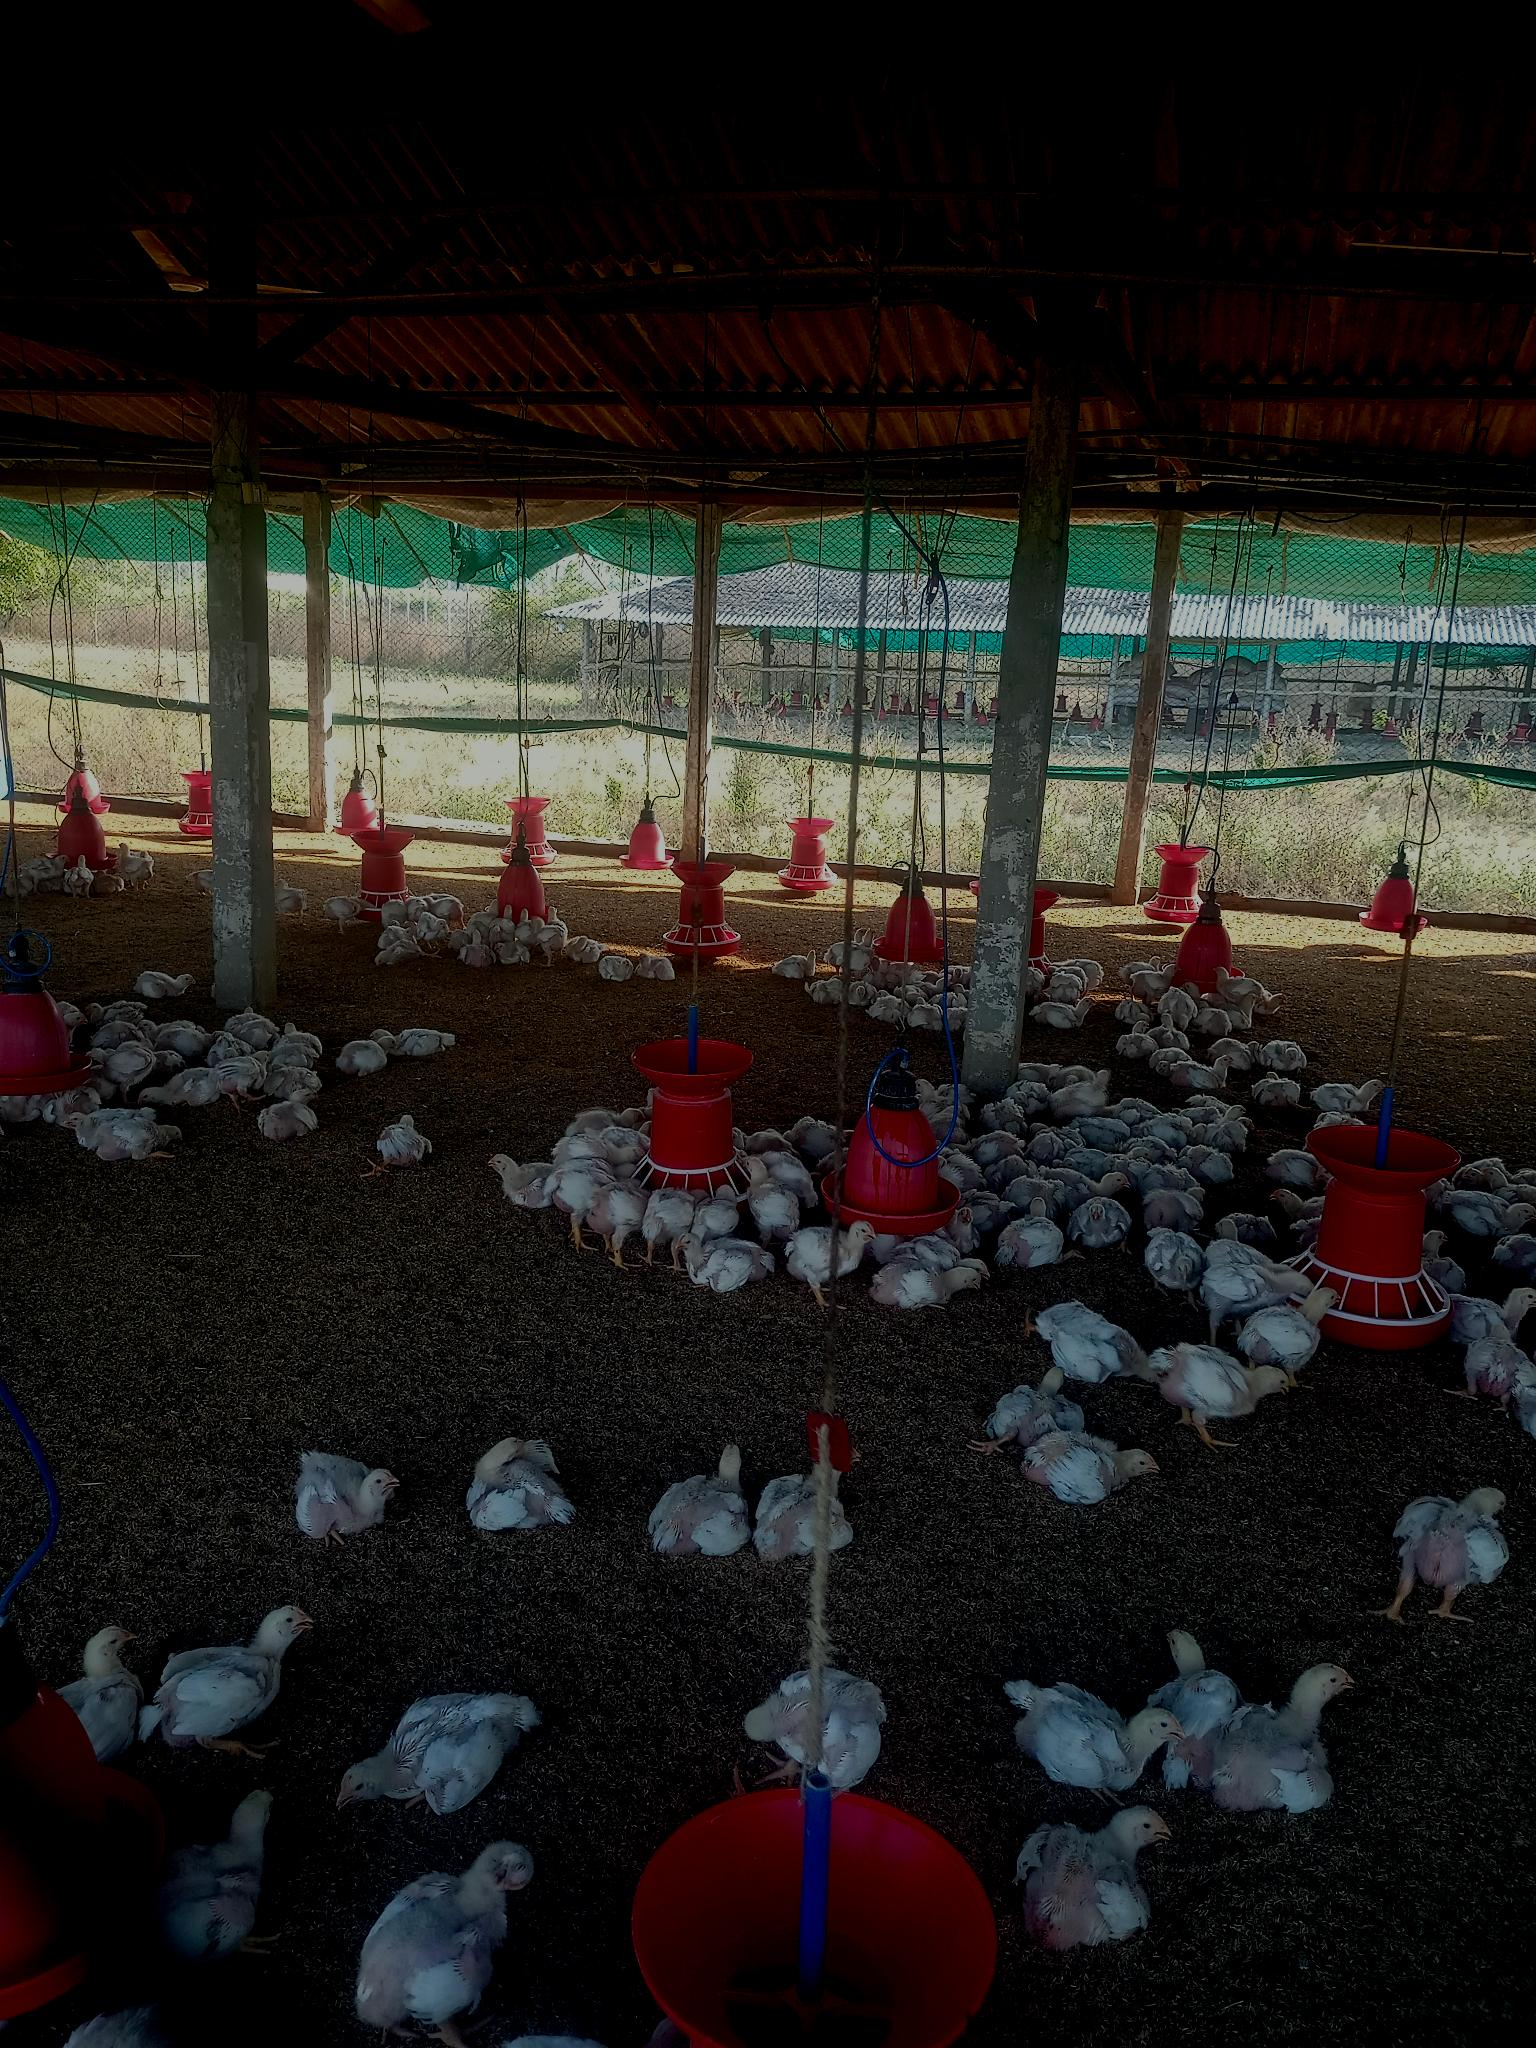Pollos: (360, 1843, 537, 2038), (157, 1788, 282, 1977), (350, 1693, 537, 1813), (1020, 1804, 1160, 1951), (163, 1613, 316, 1745), (749, 1667, 891, 1780), (1391, 1488, 1513, 1617), (1021, 1696, 1187, 1785), (1247, 1671, 1360, 1790), (645, 1442, 755, 1563), (1028, 1295, 1170, 1380), (1158, 1347, 1296, 1429), (466, 1435, 574, 1530), (294, 1447, 403, 1537), (1028, 1430, 1163, 1501), (1255, 1282, 1350, 1363), (81, 1621, 140, 1742), (673, 1235, 786, 1290), (1162, 1622, 1239, 1700), (61, 1113, 182, 1161), (791, 1221, 876, 1288), (1450, 1279, 1536, 1343), (1004, 1364, 1071, 1445), (1004, 1197, 1071, 1268), (737, 1153, 800, 1229), (376, 1116, 444, 1176), (1452, 1195, 1533, 1245), (886, 1268, 979, 1309), (142, 1068, 227, 1111), (1146, 1227, 1202, 1292), (260, 1089, 316, 1151), (586, 1180, 649, 1235), (489, 1153, 552, 1206), (1075, 1195, 1133, 1250), (332, 1037, 410, 1077), (1058, 1066, 1120, 1116), (1313, 1074, 1388, 1113), (1213, 964, 1275, 1006), (1271, 1180, 1338, 1219), (1171, 1055, 1236, 1090), (386, 1026, 457, 1056), (1034, 998, 1102, 1029), (1128, 964, 1179, 998), (1204, 1118, 1255, 1151), (139, 972, 198, 1001), (1065, 1171, 1128, 1198), (1260, 1040, 1312, 1069), (771, 951, 821, 977), (1118, 1022, 1158, 1051), (952, 1209, 979, 1251), (636, 950, 673, 979), (600, 953, 636, 982), (573, 935, 605, 964), (850, 984, 876, 1006)
